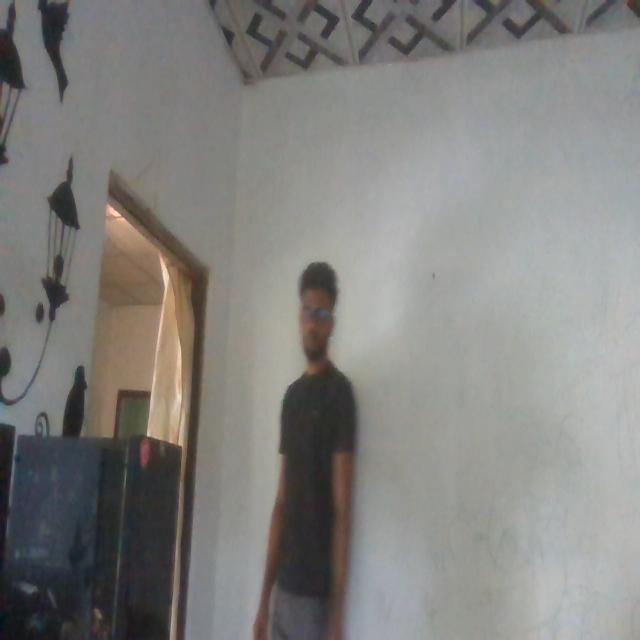Person: (255, 267, 357, 640)
